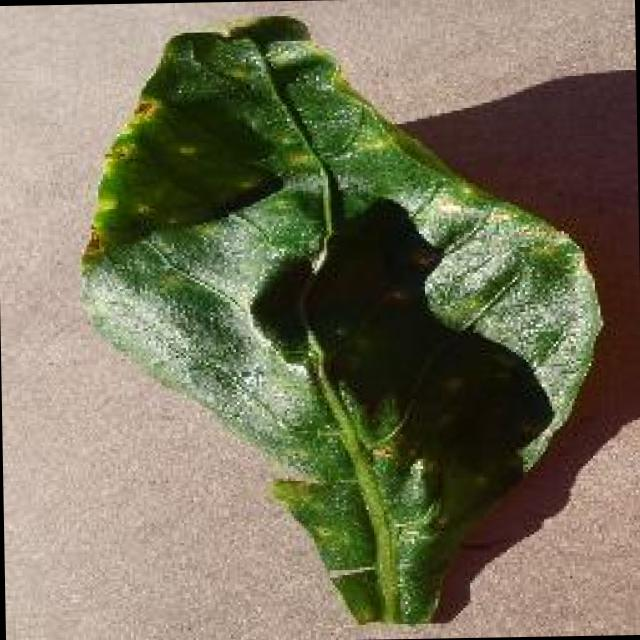Chilli_Bacterial_Spot: (70, 5, 610, 634), (248, 188, 558, 628), (73, 9, 340, 274), (293, 192, 454, 408), (73, 223, 109, 274), (170, 138, 200, 166)
